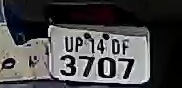0: (94, 55, 119, 79)
1: (86, 37, 97, 54)
3: (58, 54, 80, 77)
4: (96, 40, 106, 55)
7: (118, 56, 137, 80), (77, 54, 95, 78)
D: (111, 39, 121, 56)
F: (120, 38, 130, 56)
P: (75, 37, 84, 56)
U: (63, 33, 74, 54)
